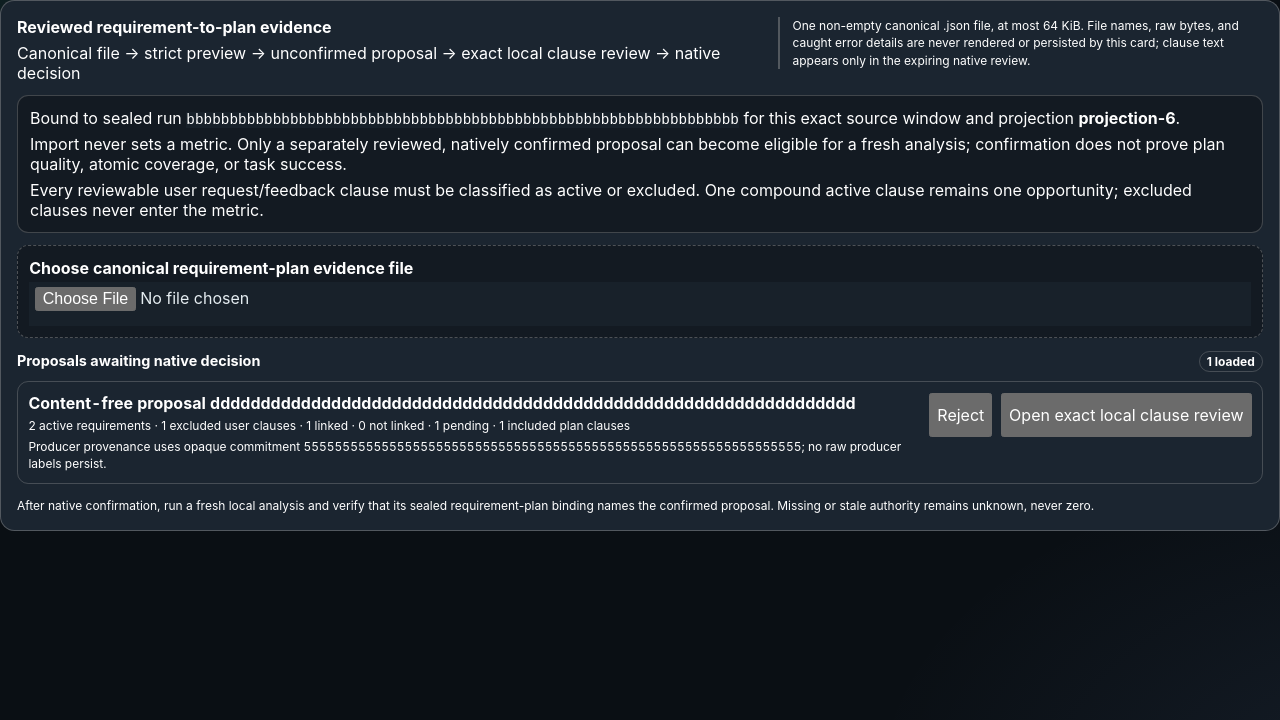
Scenario: RequirementPlanEvidencePanel › rejects a mismatched decision response and never announces evidence authority
What coordinates should you click on to do the following:
click the button "Reject"
I would click on:
 (961, 414)
Its box is x1=929 y1=392 x2=992 y2=436.
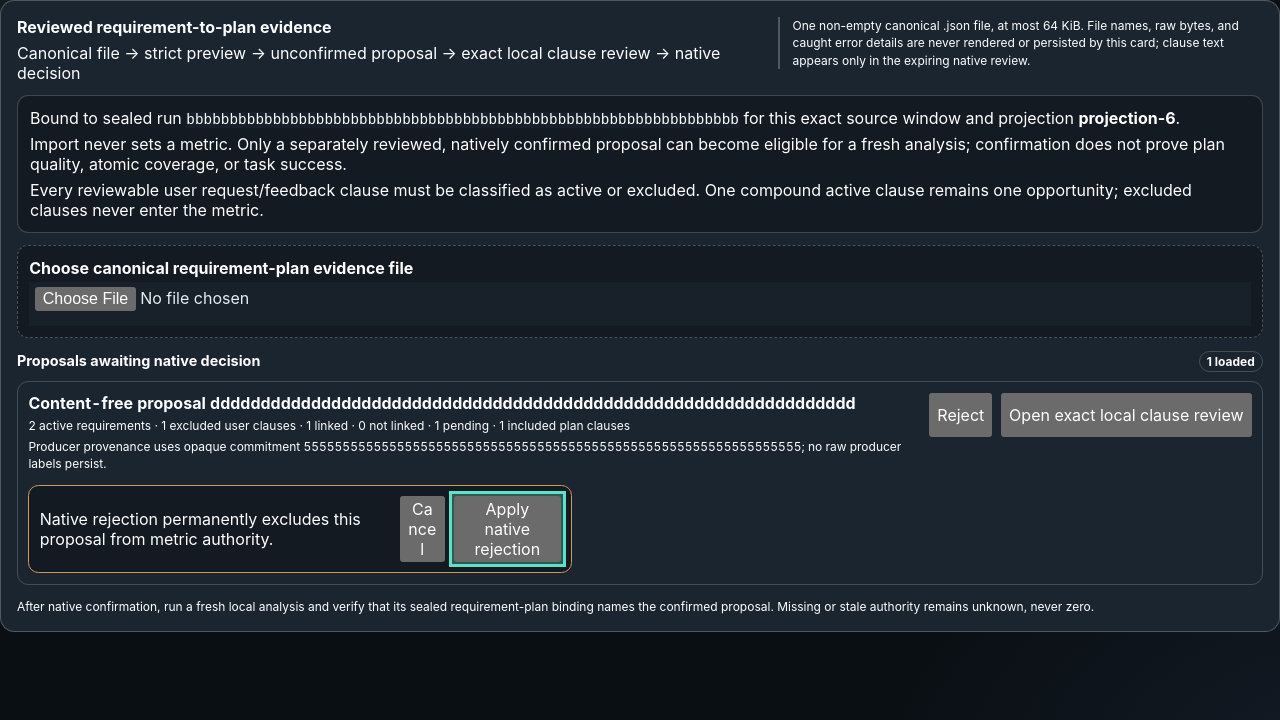
What coordinates should you click on to do the following:
click the button "Apply native rejection"
I would click on:
 (507, 529)
Its box is x1=454 y1=496 x2=561 y2=562.
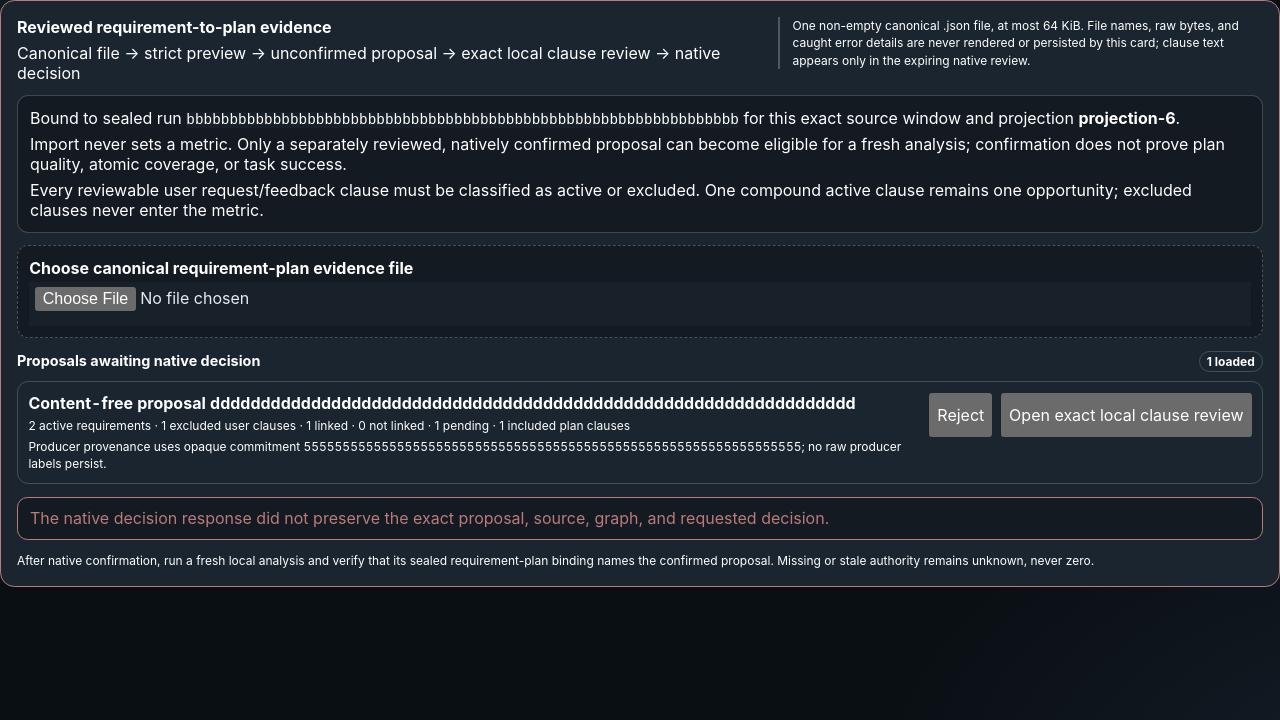
Expected: the message shows "did not preserve the exact proposal", x1=30 y1=508 x2=829 y2=528
